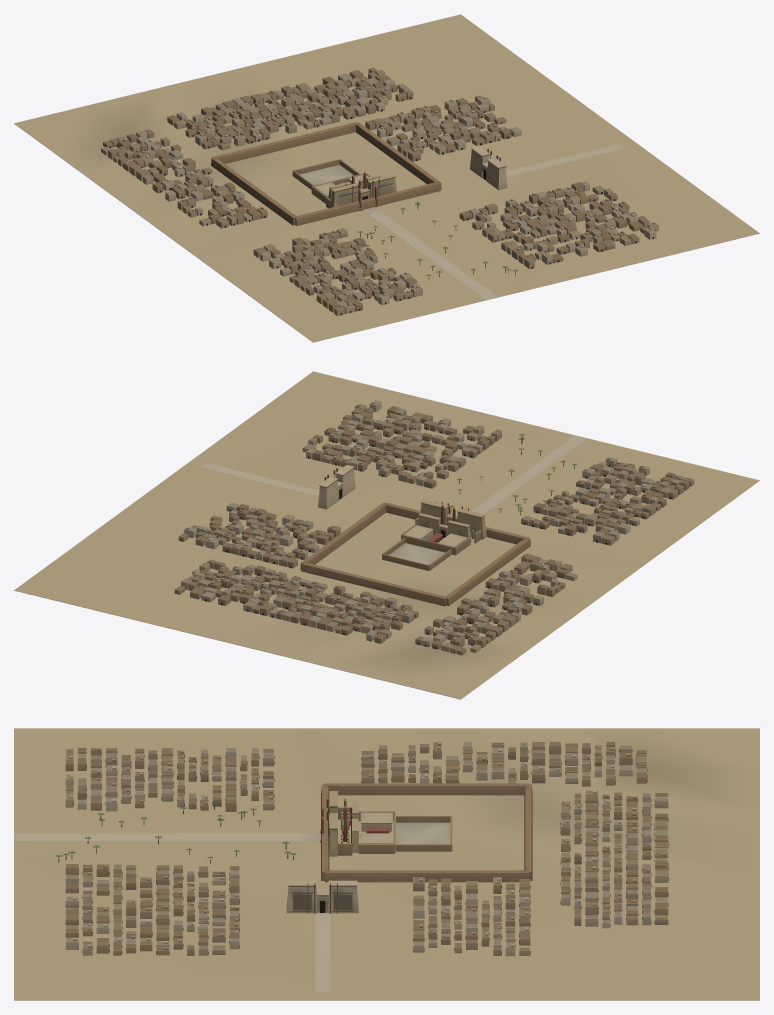
Rendered from karnak-1470.glb.
3 views of the same model, one above another, from view 1: azimuth 30°, elevation 25°; view 2: azimuth 150°, elevation 25°; view 3: azimuth 270°, elevation 25° (orthographic). The views are drawn at different scales.
Visible parts, largest first — view 1: p0_walls, p3_town, p1_stage1; view 2: p0_walls, p3_town, p1_stage1; view 3: p0_walls, p3_town, p1_stage1.
Boxes of the visible parts, x1,y1,x2,y2 form: p0_walls: (14, 14, 759, 342); p3_town: (101, 67, 658, 315); p1_stage1: (292, 143, 625, 208); p0_walls: (14, 371, 759, 699); p3_town: (174, 400, 694, 655); p1_stage1: (200, 463, 486, 570); p0_walls: (14, 728, 759, 1000); p3_town: (56, 741, 668, 956); p1_stage1: (286, 791, 452, 991).
Bounding box in the file's own units: 500 × 31.47 × 580.
